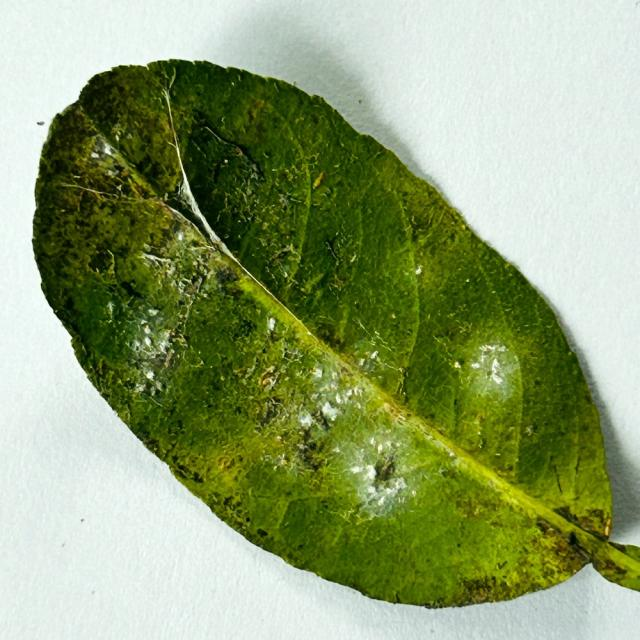Bacterial_Blight: (257, 343, 352, 466), (146, 220, 225, 306), (192, 116, 265, 189), (167, 188, 228, 255), (187, 434, 248, 487), (88, 136, 139, 187), (319, 227, 363, 278), (151, 196, 200, 238), (292, 423, 329, 470), (552, 506, 597, 540), (449, 577, 502, 604), (367, 456, 408, 490), (266, 242, 302, 279), (557, 538, 591, 575), (86, 246, 117, 277), (172, 459, 205, 485), (455, 495, 490, 519), (244, 96, 271, 126), (409, 204, 439, 231), (149, 345, 176, 373), (372, 456, 397, 486), (259, 399, 283, 427), (212, 265, 239, 289), (535, 517, 563, 538), (383, 401, 408, 424), (119, 279, 146, 300), (325, 234, 344, 262), (234, 317, 257, 340), (335, 358, 358, 380), (394, 371, 409, 404), (308, 471, 329, 492), (596, 556, 621, 573), (259, 369, 278, 390), (316, 408, 331, 431), (312, 182, 331, 200), (127, 180, 143, 198), (170, 219, 184, 238), (195, 272, 208, 292), (103, 248, 116, 268), (222, 495, 239, 510), (330, 275, 345, 291), (171, 332, 187, 346), (608, 540, 626, 552), (312, 171, 324, 189), (217, 456, 232, 470), (65, 296, 77, 313), (111, 122, 123, 138), (278, 193, 290, 208), (555, 472, 563, 493), (567, 531, 578, 546), (475, 410, 486, 425), (96, 360, 106, 376), (288, 195, 305, 204), (168, 328, 179, 340), (256, 528, 269, 538), (282, 243, 295, 253), (119, 167, 130, 178), (233, 146, 244, 157), (251, 162, 260, 175), (79, 342, 87, 356), (605, 518, 612, 532), (497, 560, 507, 569), (524, 426, 533, 436), (394, 593, 402, 604), (572, 565, 580, 575), (262, 221, 270, 230), (455, 359, 464, 367), (116, 183, 123, 193), (162, 192, 169, 201), (297, 543, 304, 550), (94, 267, 100, 275), (245, 516, 251, 523), (220, 374, 226, 381), (37, 121, 45, 126)
Lemon: (31, 60, 639, 611)
